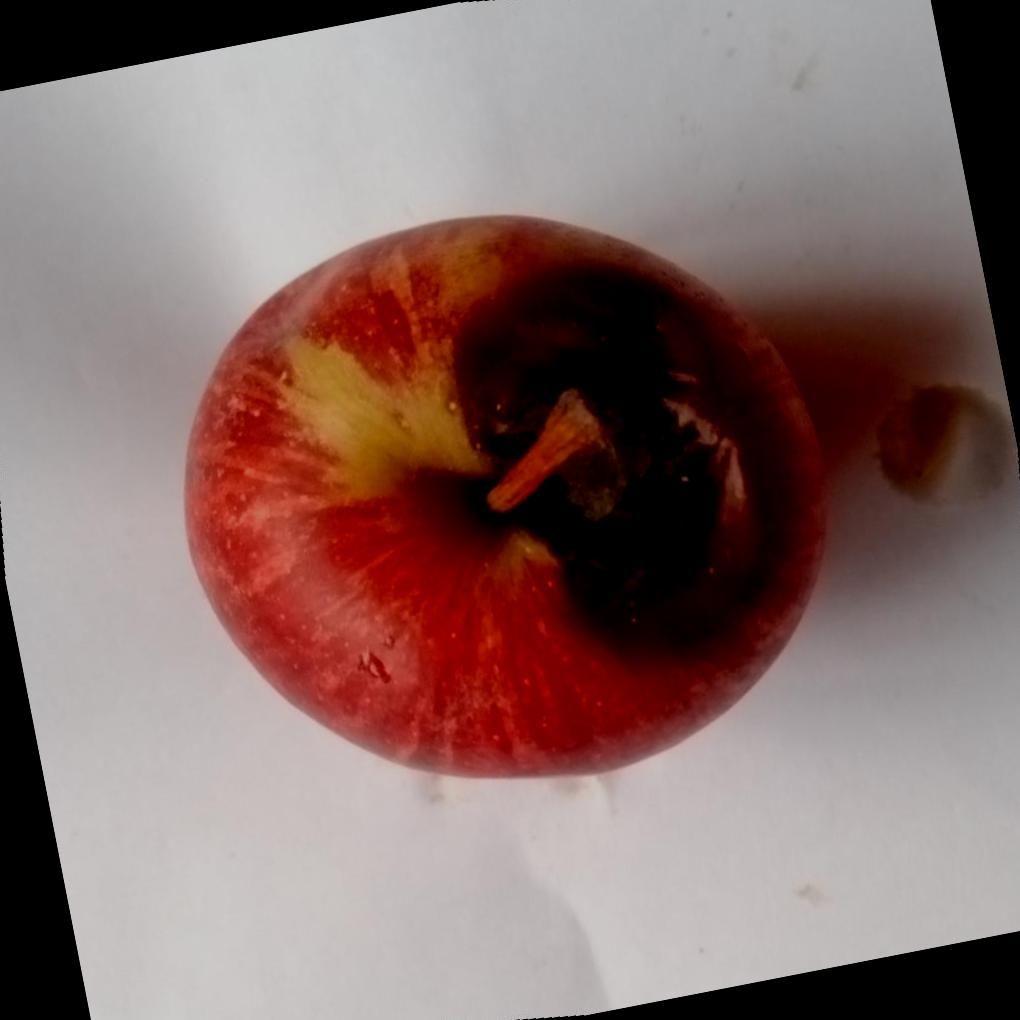FreshOrange: (179, 209, 829, 778)
